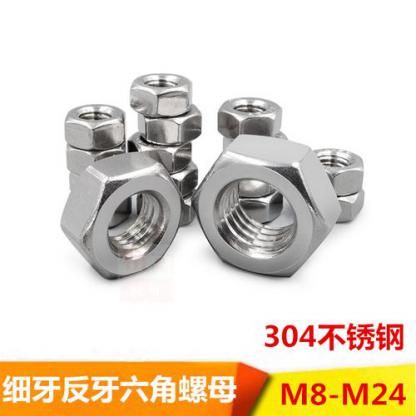FOD: (195, 132, 343, 282), (58, 150, 182, 281), (301, 144, 369, 190), (60, 101, 128, 147), (128, 68, 193, 113), (215, 98, 288, 138), (131, 107, 205, 145), (63, 139, 126, 172), (321, 190, 370, 226), (154, 162, 203, 197)
